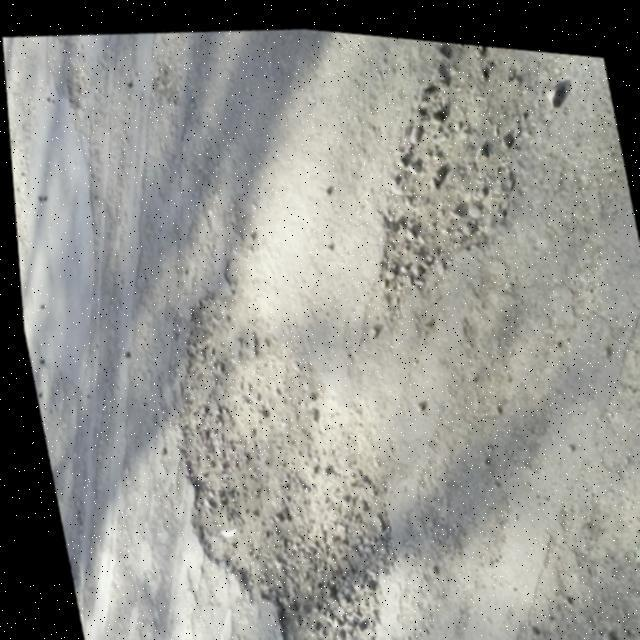pothole: (129, 231, 411, 640), (324, 24, 576, 324)
